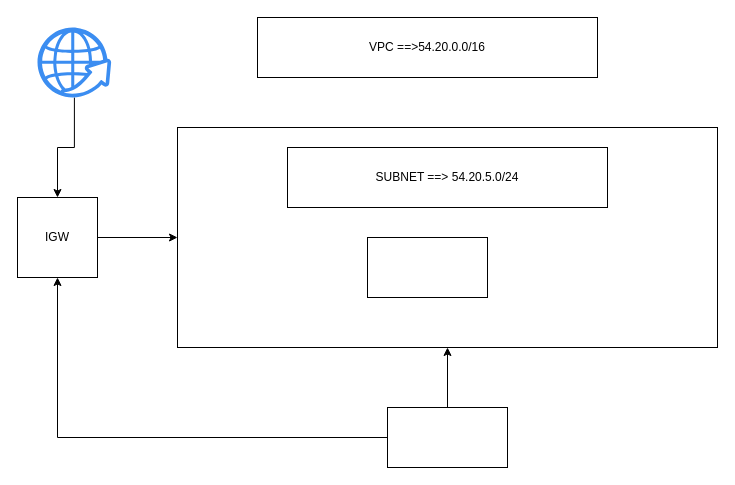
Image size: 735x485. Some labels were removed from this diagram. The shapes that lost their labels are listed below. From the top down, each one's centre as x and y in pixels, then its label:
the point at 427,267: EC2 INSTANCE
the point at 447,437: MRTB
